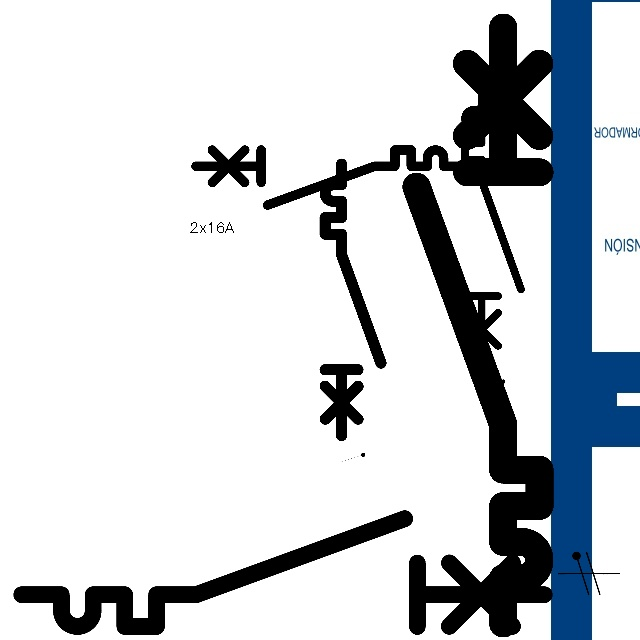interruptor_termomagnetico: (401, 12, 555, 639), (8, 505, 558, 640), (458, 82, 528, 369), (318, 157, 388, 442), (189, 143, 471, 212)
